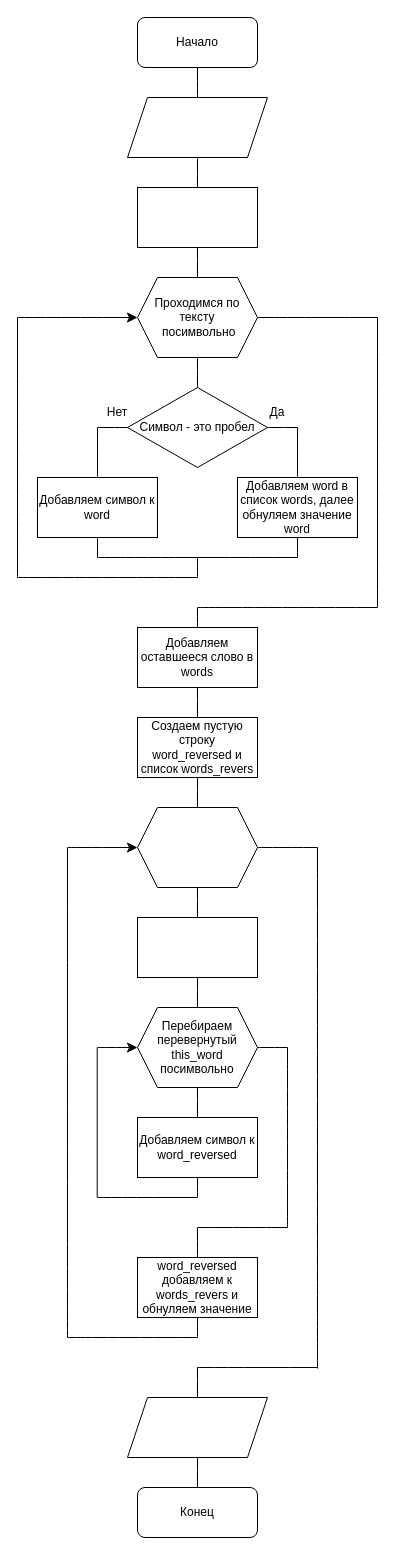
Image size: 396x1555. Some labels were removed from this diagram. Here are the shapes that lost their labels. From the top down, the box of each, then its label:
(126, 96, 268, 158): Ввод текста
(136, 186, 258, 248): Создаем список words и пустую строку word
(136, 806, 258, 888): Итератор от длины списка words минус один до 0, шаг = -1
(136, 916, 258, 978): Присваиваем переменной this_word значение i-го элемента words
(126, 1396, 268, 1458): Печать words_revers
